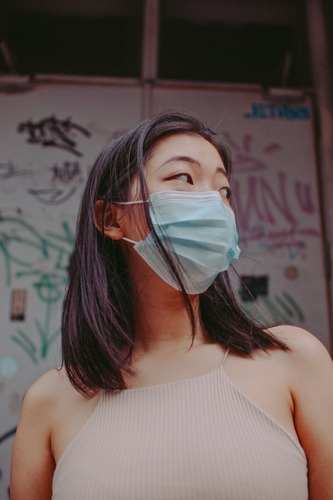with_mask: (128, 154, 236, 278)
